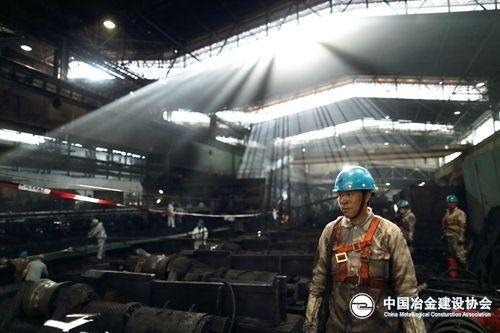Helmet: (334, 164, 373, 212)
